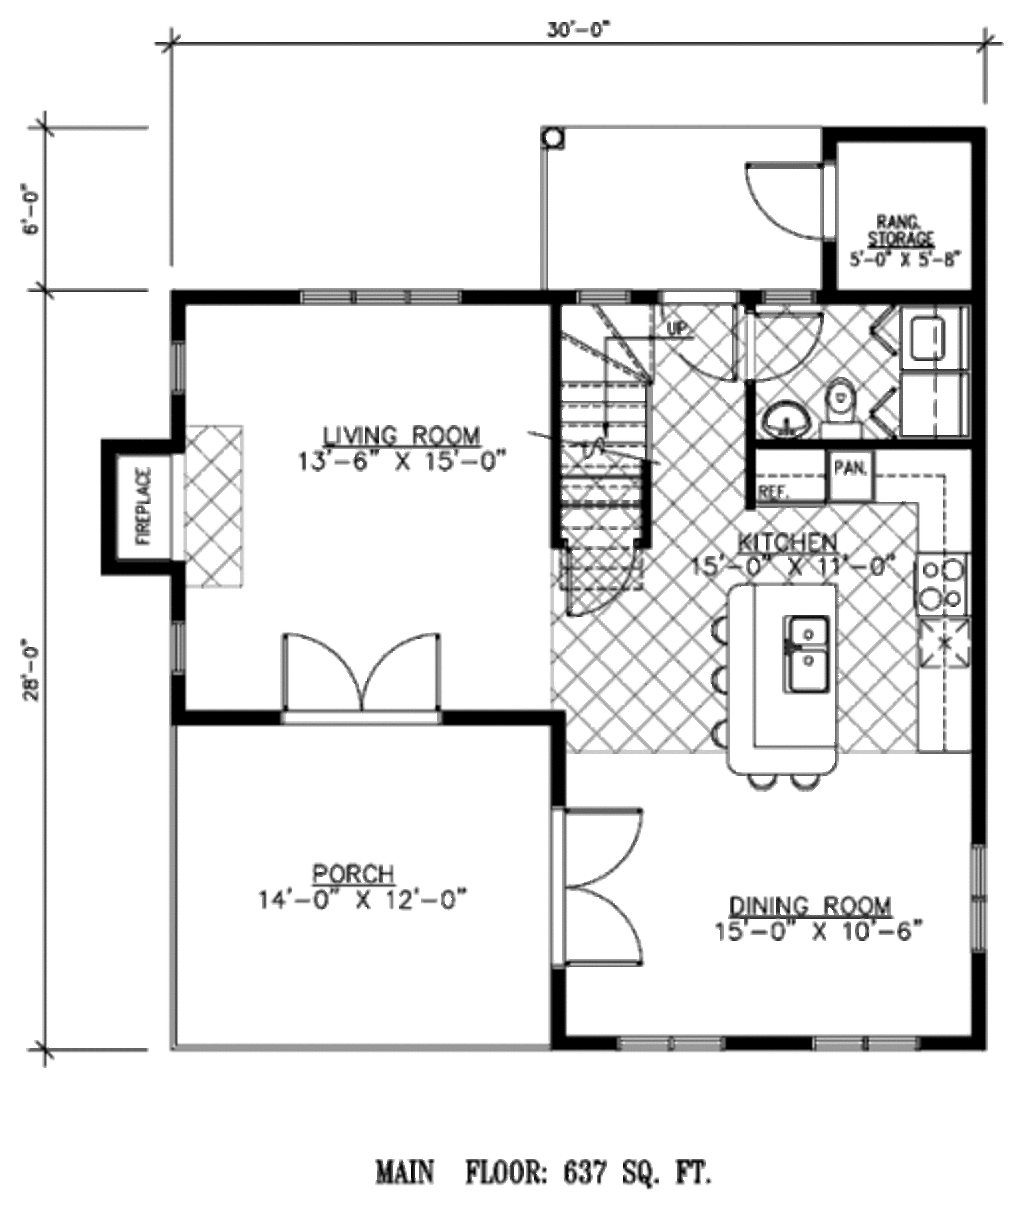door: (546, 793, 655, 972), (260, 630, 453, 731), (729, 154, 855, 241), (648, 284, 744, 384), (562, 537, 649, 632), (759, 306, 831, 385)
large_sink: (812, 365, 863, 439)
small_sink: (753, 389, 816, 445)
stairs: (557, 304, 660, 535)
twin_sink: (777, 608, 831, 698)
window: (799, 1032, 922, 1052), (614, 1037, 727, 1058), (155, 335, 188, 404), (975, 845, 988, 950), (577, 284, 636, 306), (573, 289, 642, 306), (172, 611, 190, 676)
